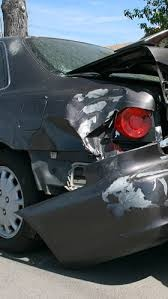Broken-glass: (90, 107, 155, 158), (50, 64, 74, 78)
Dent: (69, 90, 126, 155)
Scratch: (100, 176, 168, 215), (76, 87, 108, 103), (82, 103, 107, 114), (9, 40, 24, 56)
Smashed: (18, 145, 168, 264)
